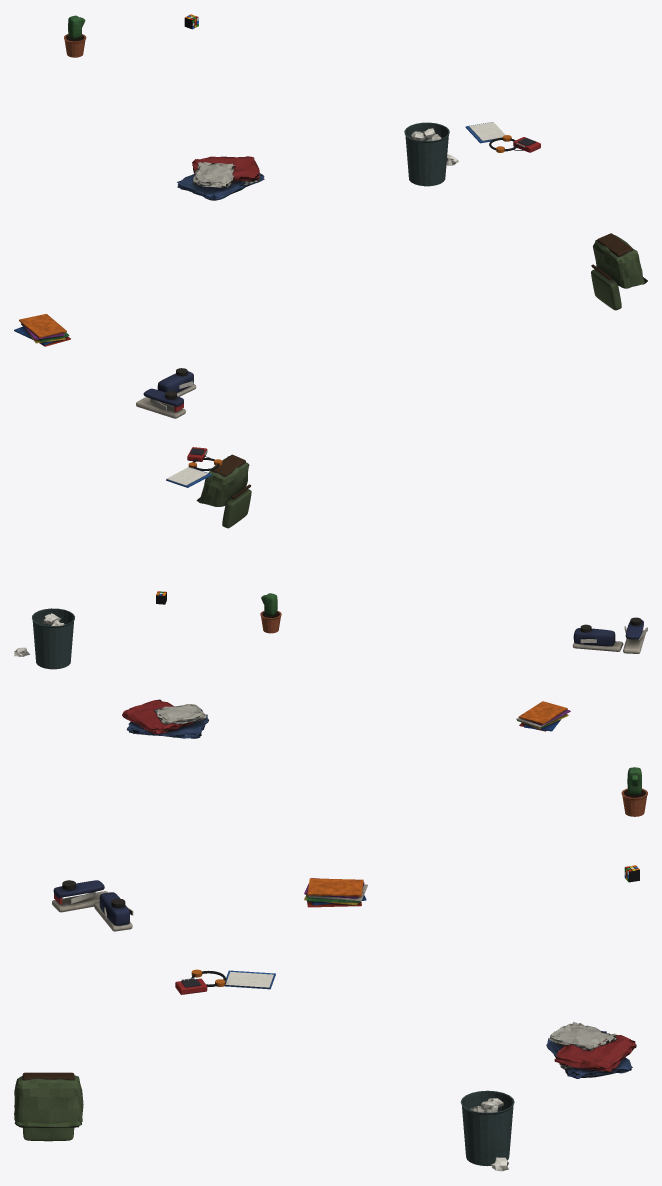
The model's file is sz_kram.glb.
3 renders of one model, top to bottom at view 1: azimuth 30°, elevation 25°; view 2: azimuth 150°, elevation 25°; view 3: azimuth 270°, elevation 25°, orthographic. The views are drawn at different scales.
Visible parts, largest first — view 1: sz_kram; view 2: sz_kram; view 3: sz_kram.
Boxes of the visible parts, left/top/right/bottom form: sz_kram: left=14, top=14, right=647, bottom=418; sz_kram: left=14, top=447, right=647, bottom=738; sz_kram: left=14, top=767, right=647, bottom=1171.
Bounding box in the file's own units: 3.18 × 1.13 × 2.93.
Materials: 1 (1 with a texture image).
